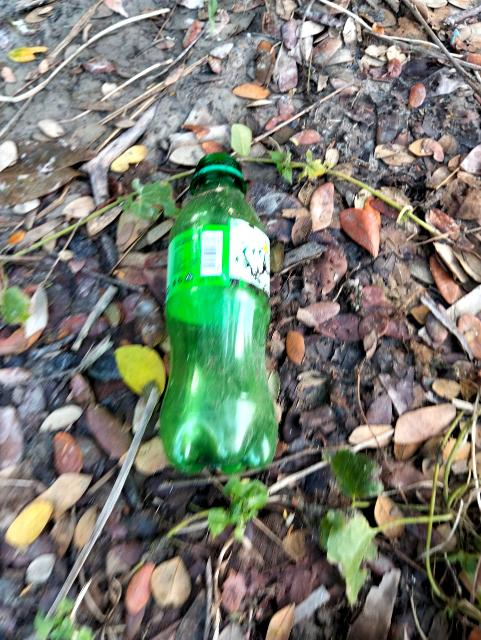bottle: (166, 171, 284, 488)
